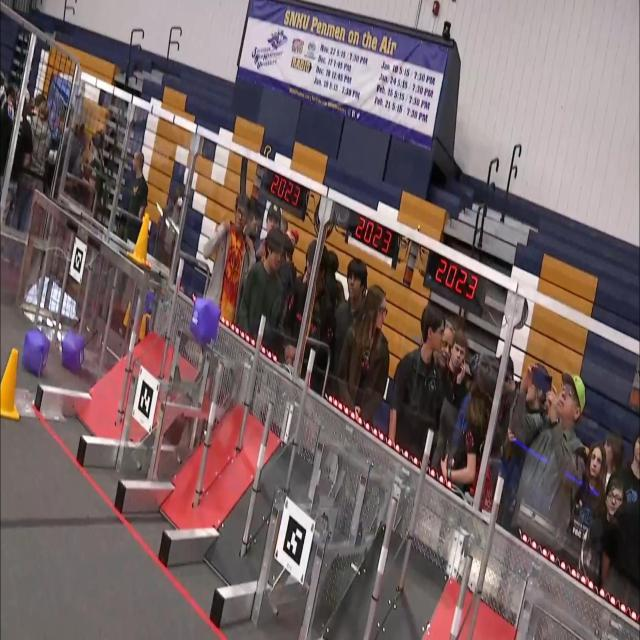frc_cone: (0, 346, 21, 421), (128, 213, 151, 271), (122, 302, 132, 330), (139, 316, 148, 338)
frc_cube: (190, 292, 220, 348), (23, 330, 50, 376), (61, 332, 85, 372), (146, 290, 155, 320)
